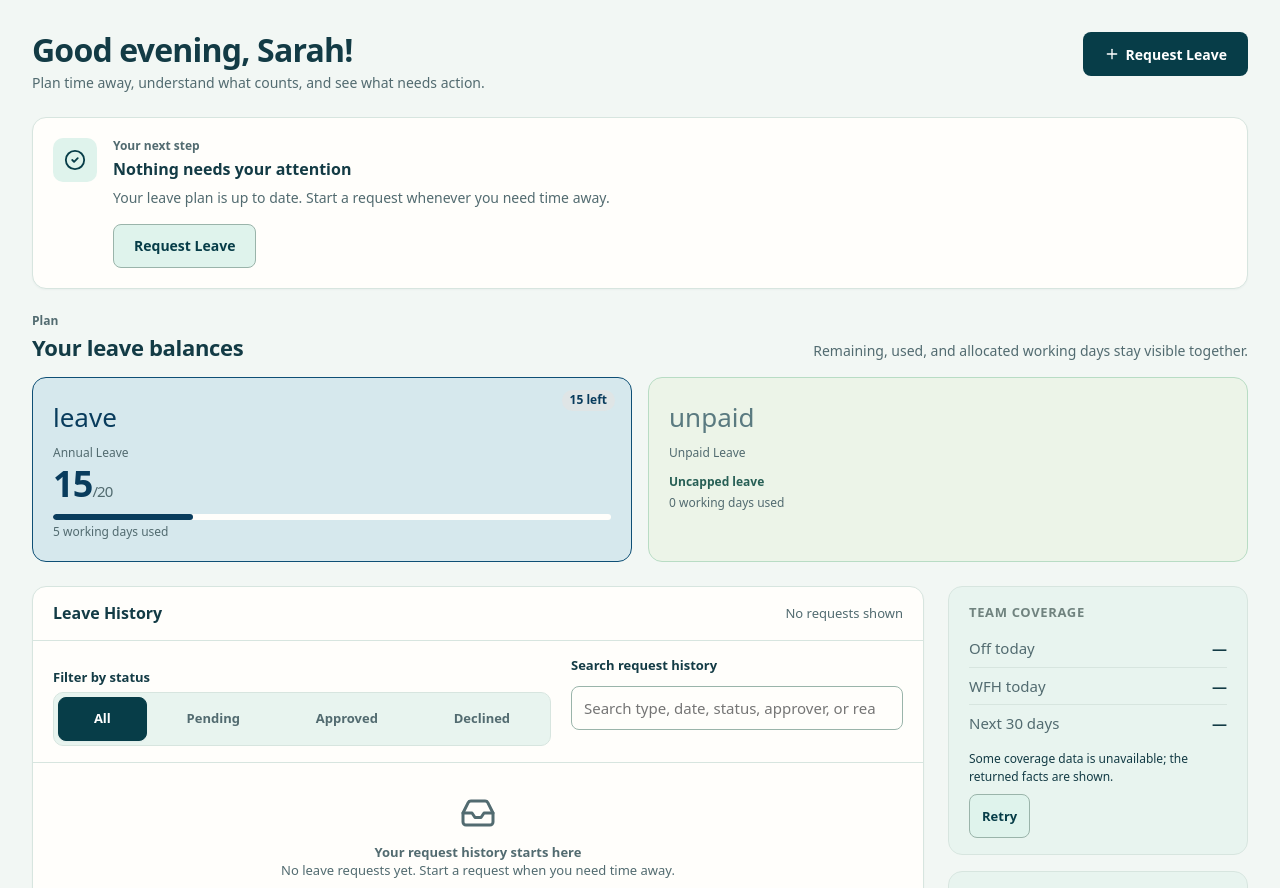
Test case: MyLeavesPage › [P1] opens shared Request Leave modal from My Leaves
This screenshot has width=1280, height=888.
Step 1. Click the button with test id "request-leave-btn" → {"x": 1165, "y": 54}, box [1083, 32, 1248, 76]
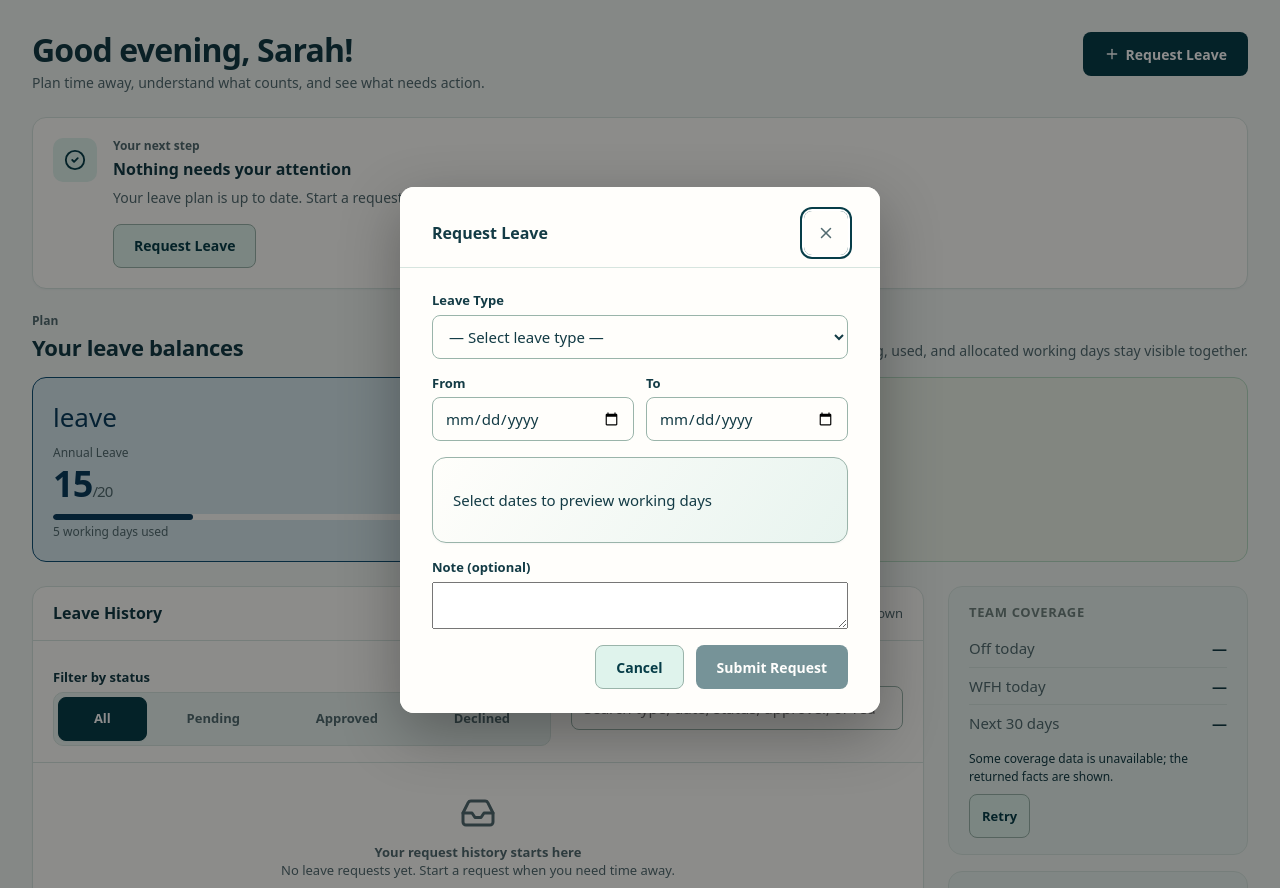
Result: the dialog with test id "request-leave-modal" is shown at [400, 187, 880, 713]
